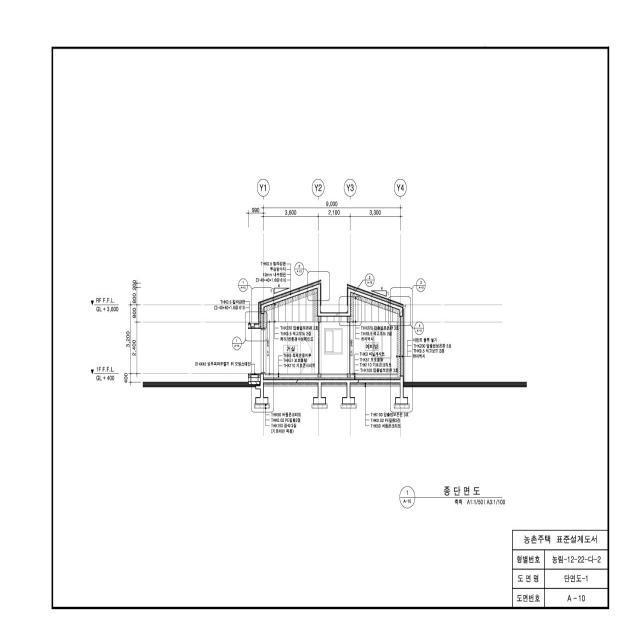background: (0, 0, 640, 640)
space_living_room: (264, 289, 318, 379)
space_other: (350, 292, 400, 379), (318, 317, 350, 379)
